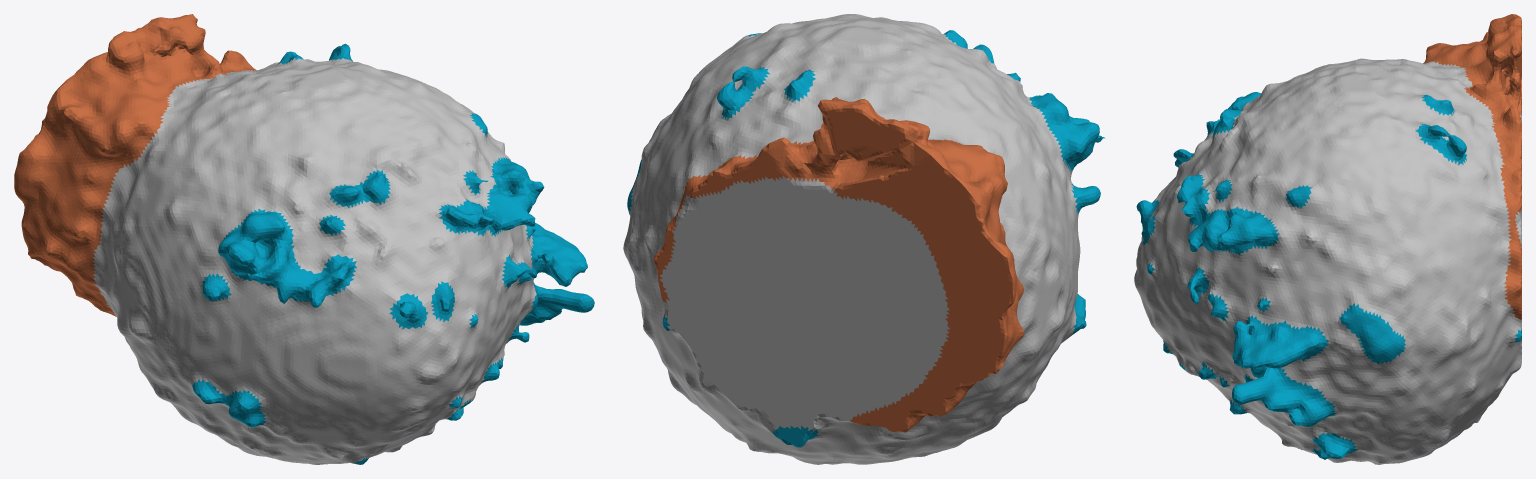
The picture shows the model from 3 angles, left to right: view 1: azimuth 30°, elevation 25°; view 2: azimuth 150°, elevation 25°; view 3: azimuth 270°, elevation 25°; orthographic projection. The views are drawn at different scales.
Bounding box in the file's own units: 106 × 90.97 × 85.64.
